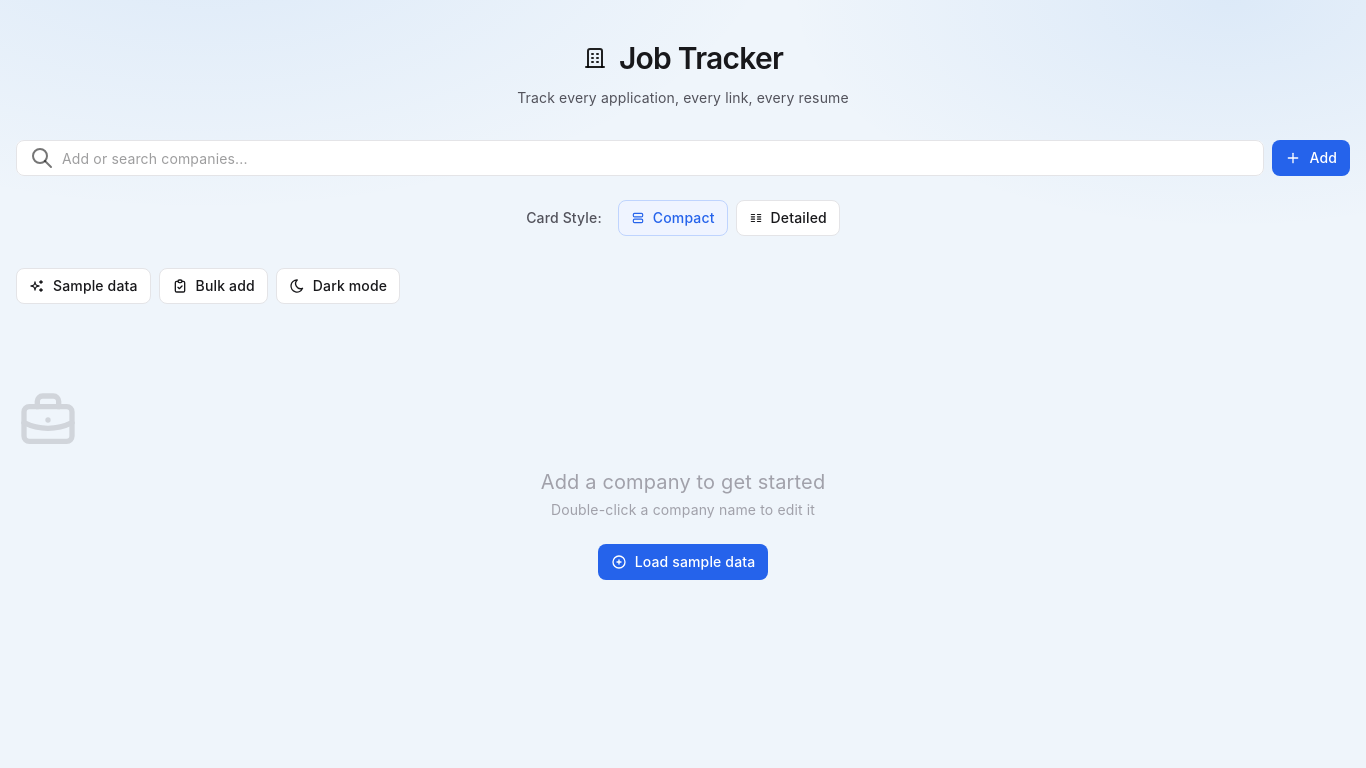
dashboard — sample data panel › describes a sample for every preset toggle
Click the button with aria-label "show sample data for every feature". click: (83, 286)
box: [16,268,151,304]
(page scrolled)
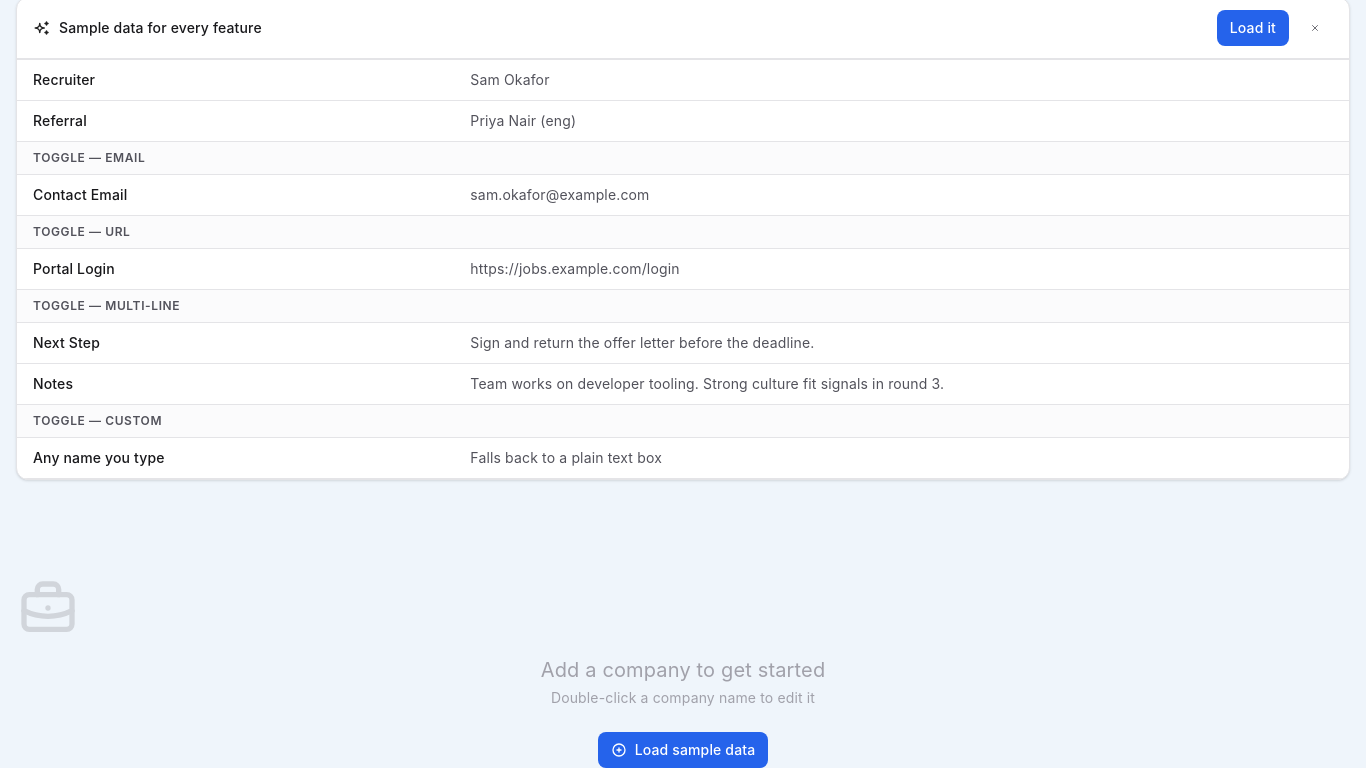
expect the heading "Sample data for every feature" is shown: met, box [59,19,262,36]
expect the text "Recruiter" is shown: met, box [33,71,95,88]
expect the text "Referral" is shown: met, box [33,112,87,129]
